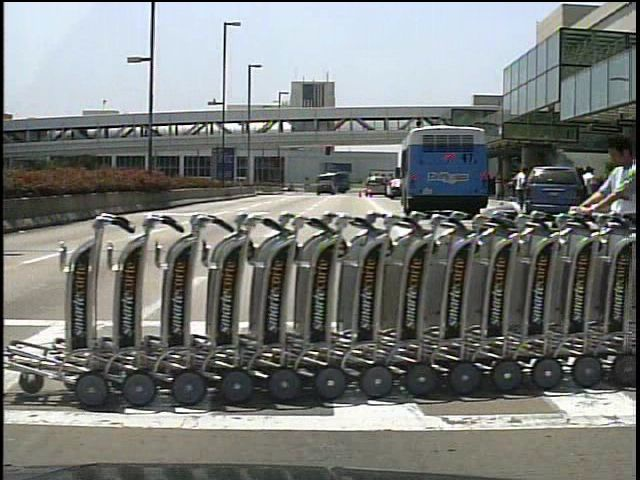person: (577, 128, 639, 355), (580, 165, 601, 214), (573, 164, 591, 221), (509, 162, 527, 212)
